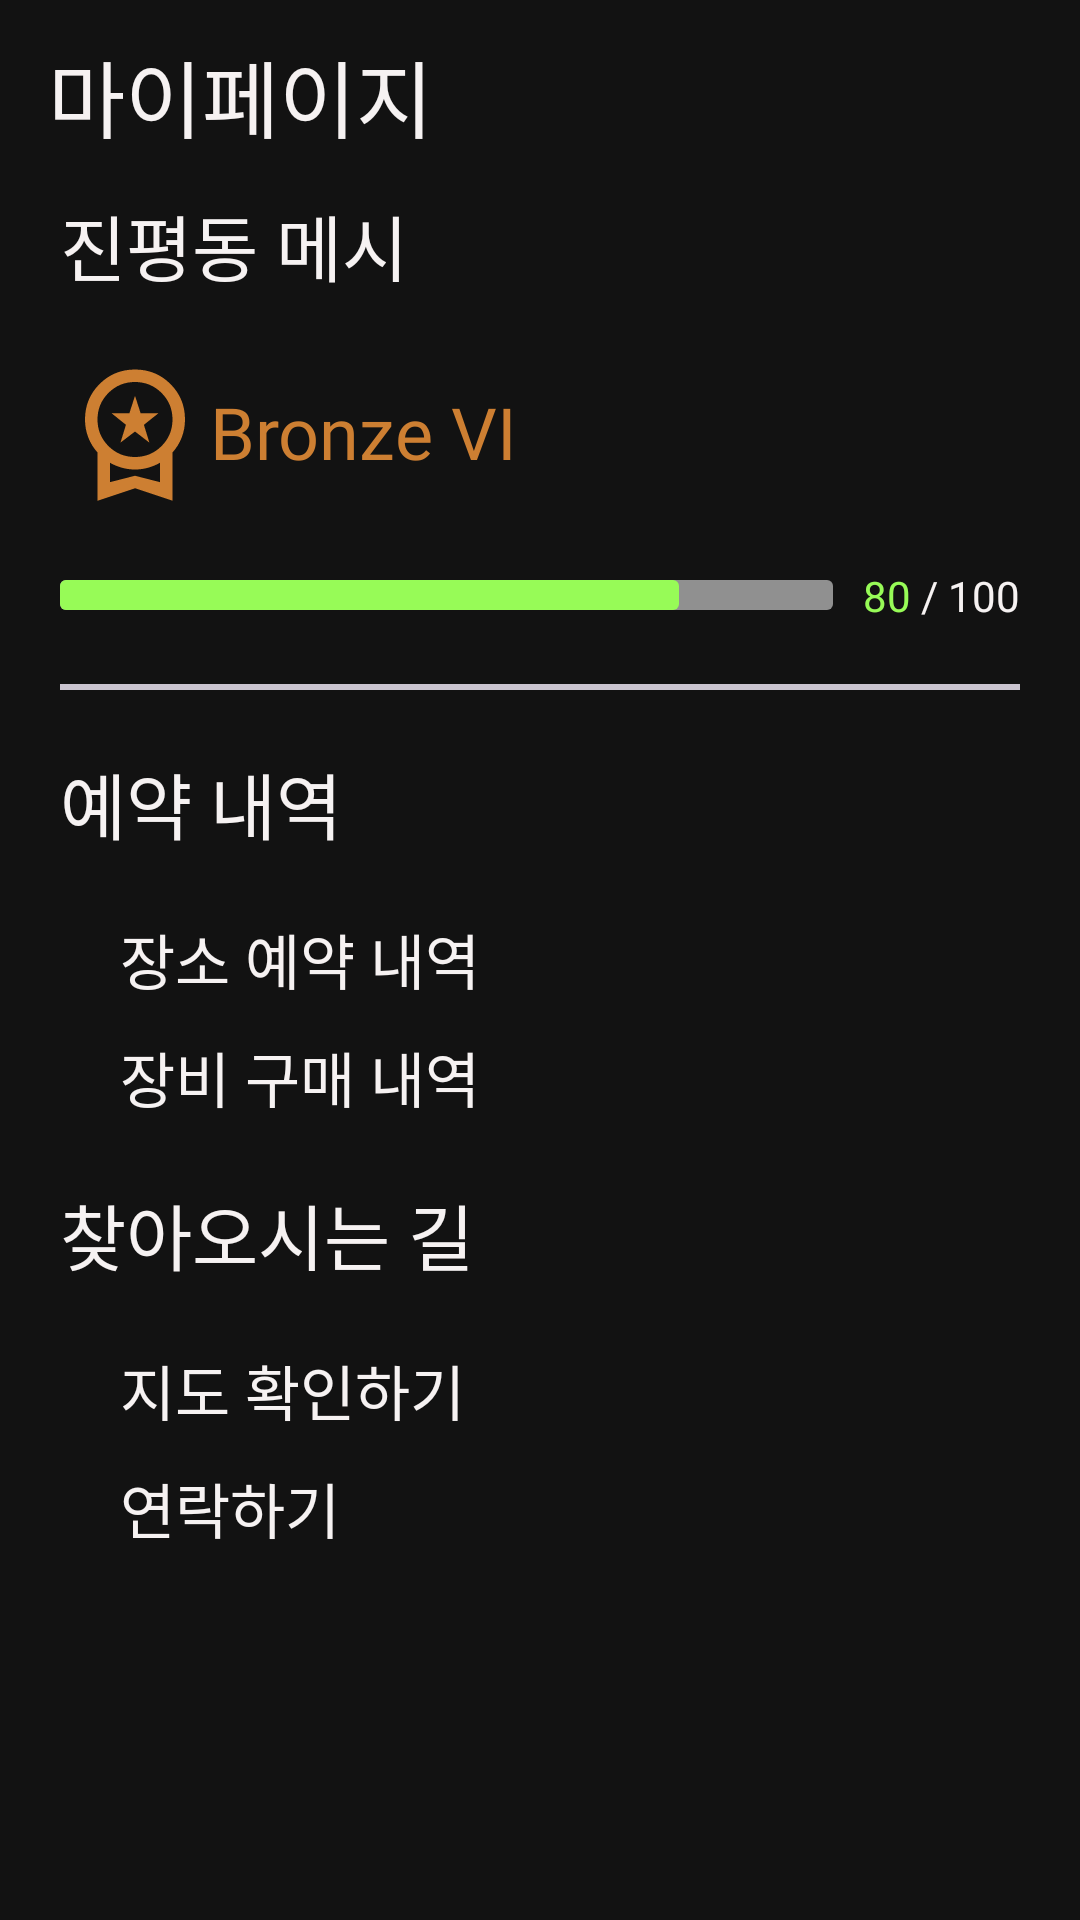

Screen size 1080w x 1920h. Icon name, then its center in pixels as (x,y):
grade: (135,435)
